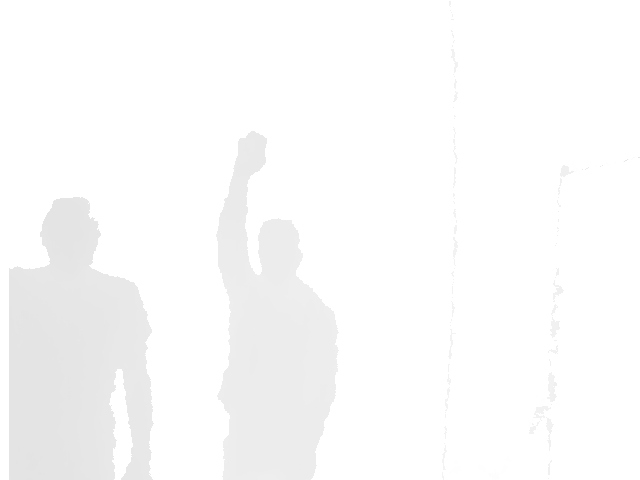hand: (236, 132, 267, 179)
head: (40, 197, 100, 271), (257, 218, 304, 288)
person: (214, 132, 340, 480), (9, 197, 155, 480)
